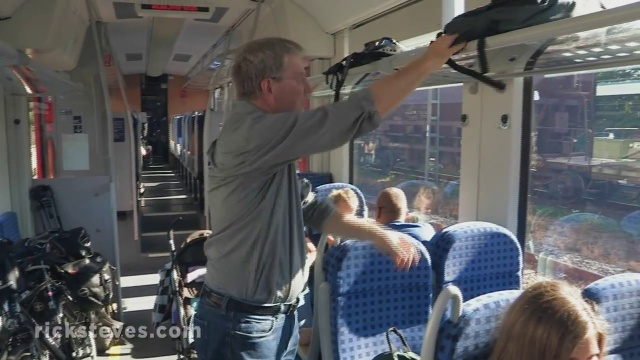person: (191, 31, 464, 360), (482, 272, 610, 359)
